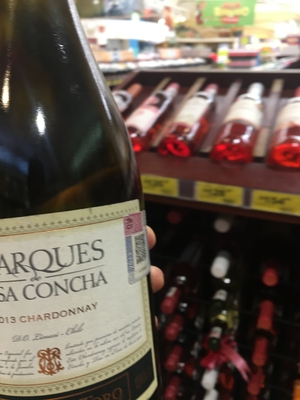marques de casa concha chardonnay: (1, 20, 158, 396)
